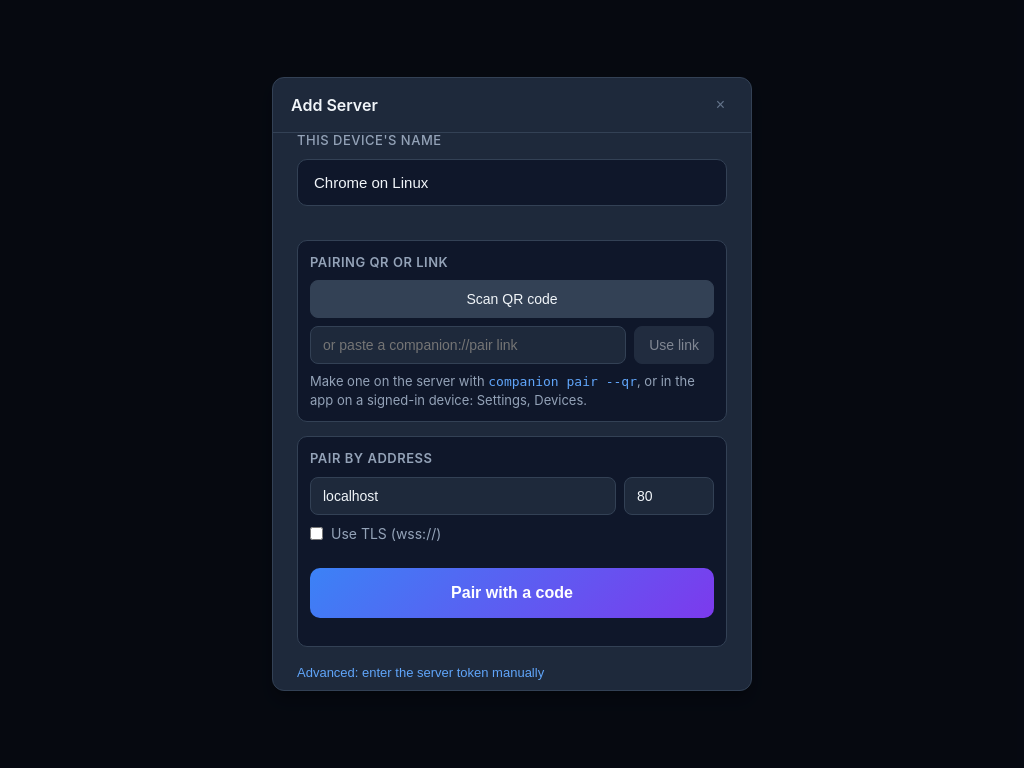
AddServerFlow › keeps the manual token form as Advanced
Click the button "Advanced: enter the server token manually" at (421, 672), box [297,661,544,684]
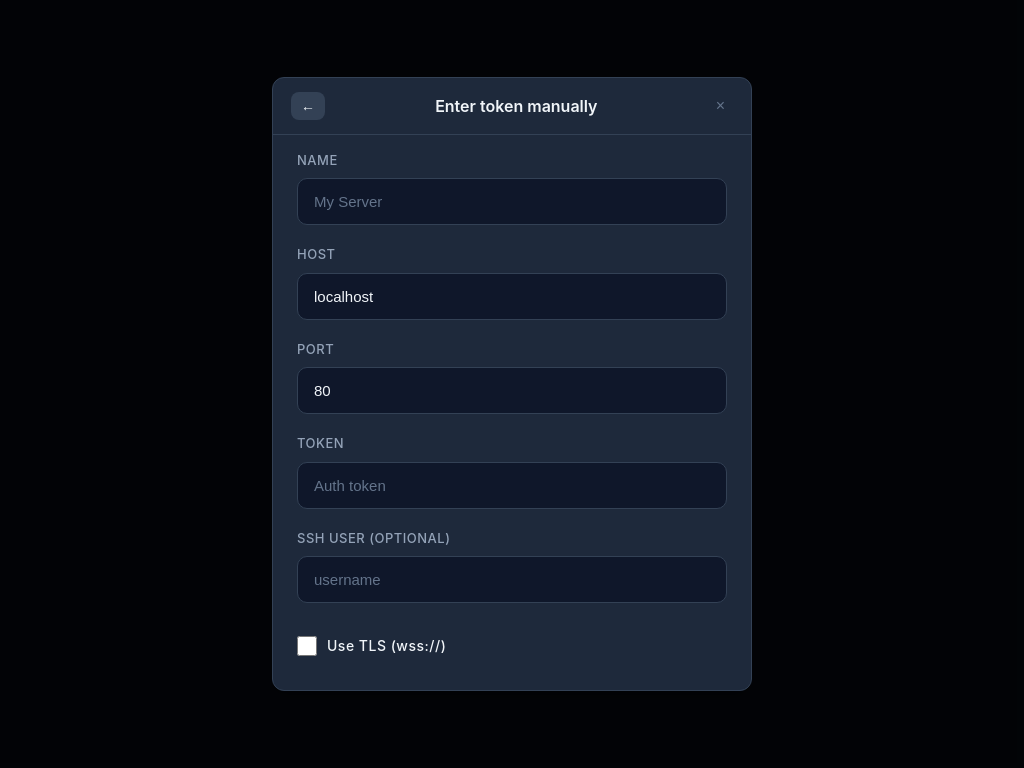
Now the heading "Enter token manually" is shown, box [435,94,598,118]
Now the password field labelled "Token" is shown, box [297,462,727,509]
